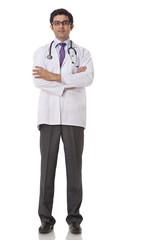Human: (25, 7, 99, 239)
